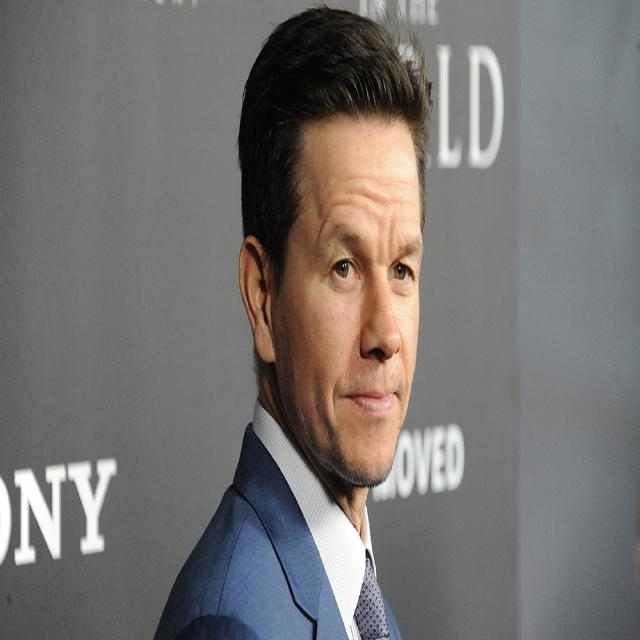human: (152, 17, 435, 640)
